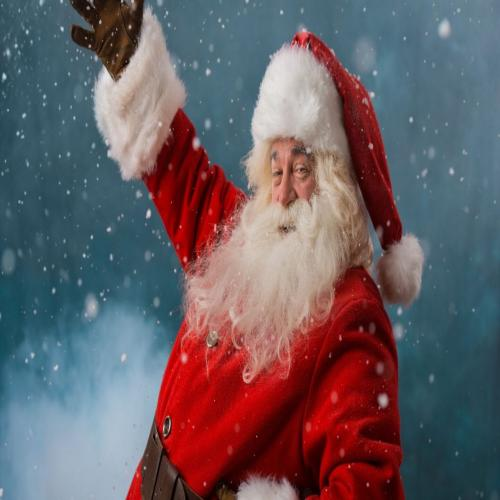Santa: (70, 0, 424, 500)
